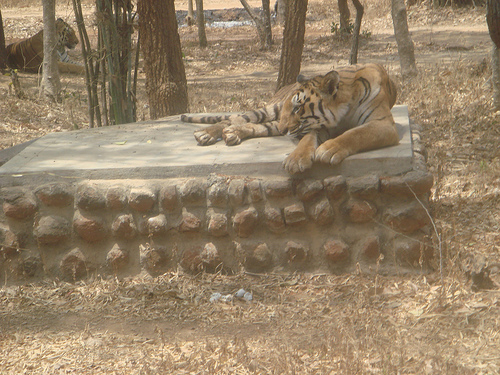Tigre: (183, 67, 414, 174)
